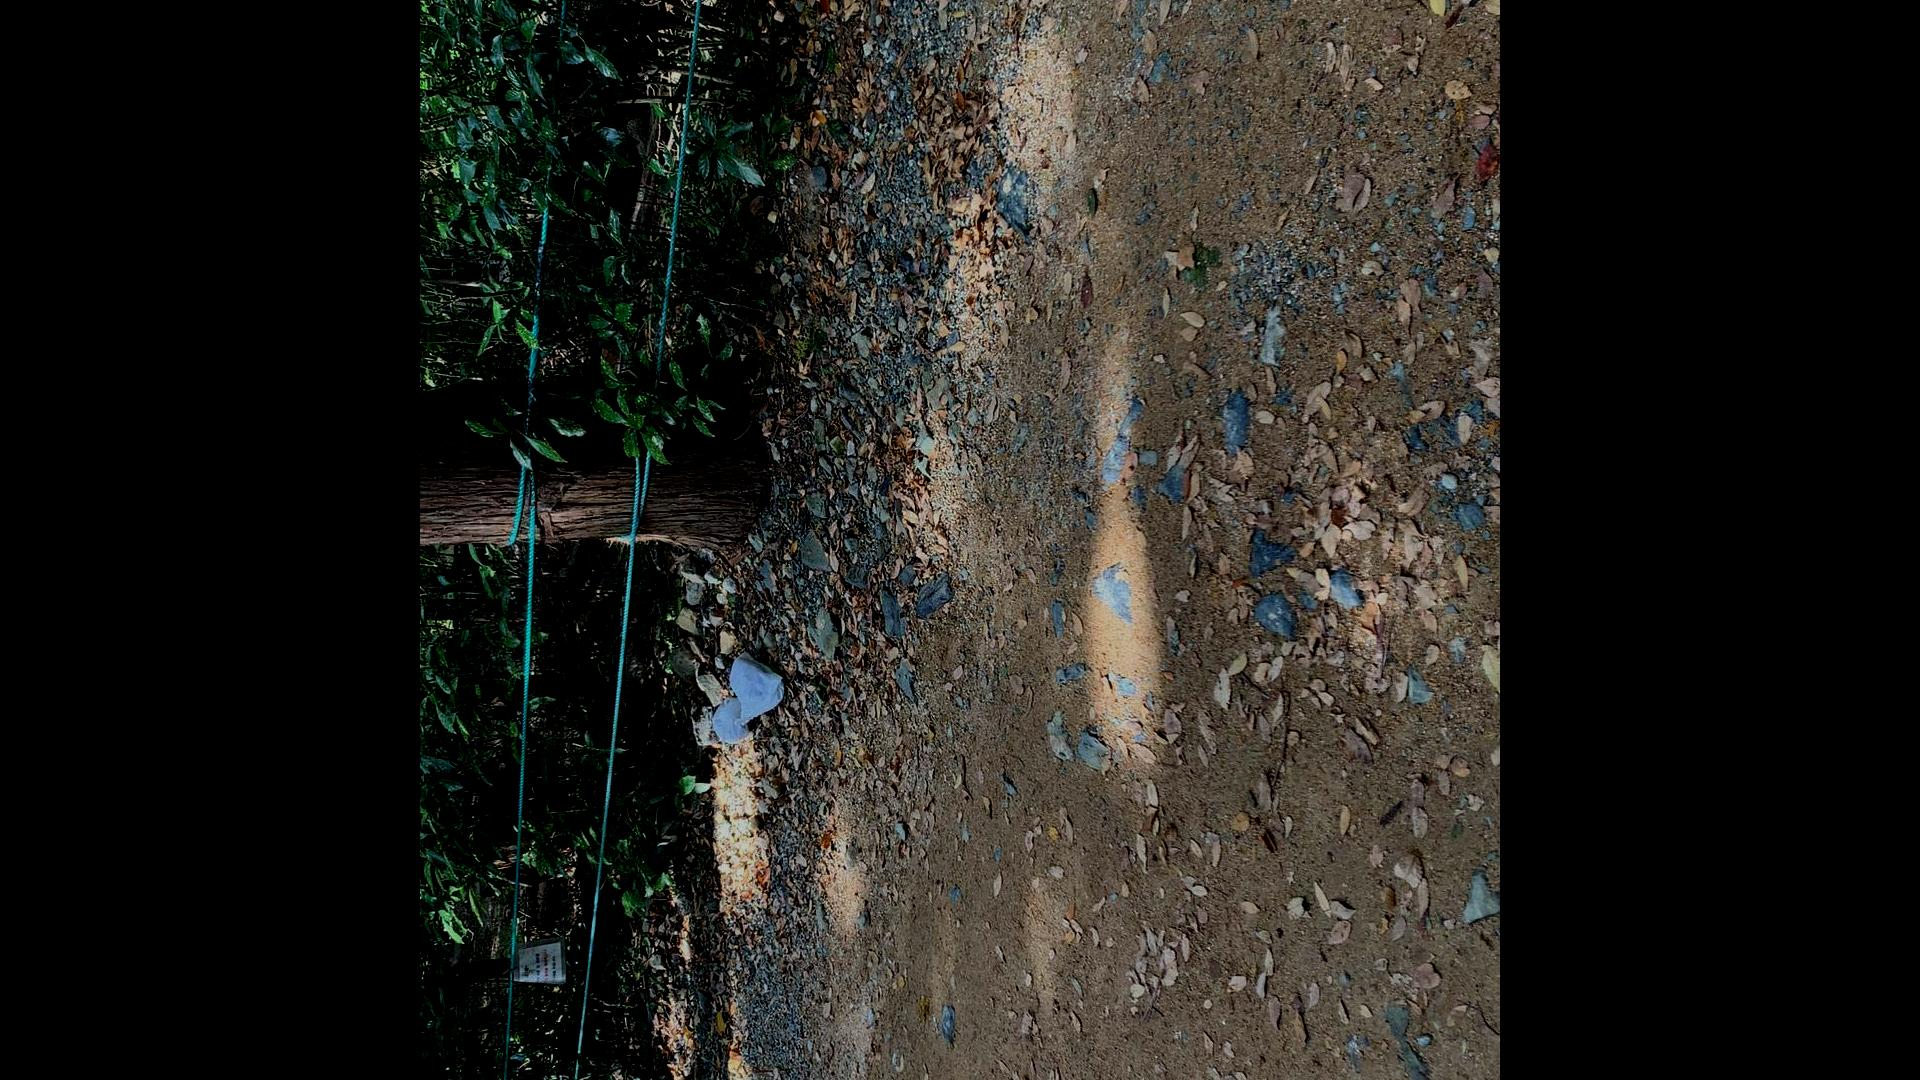white_bag: (724, 645, 789, 729), (709, 694, 754, 748)
